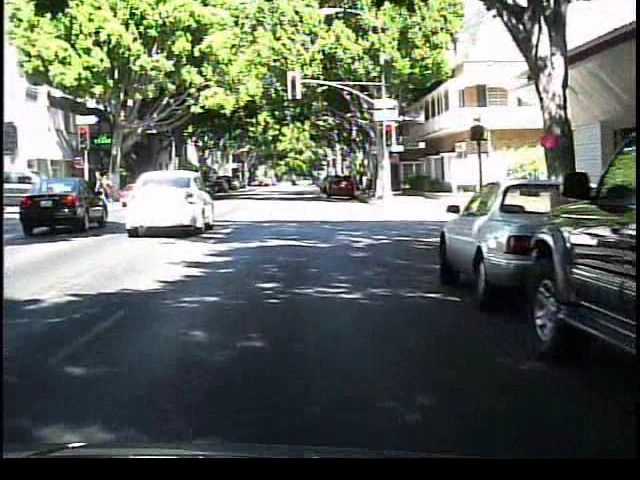person: (93, 163, 118, 206)
